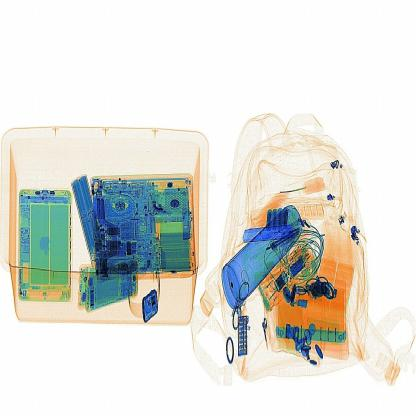pliers: (232, 219, 302, 248)
